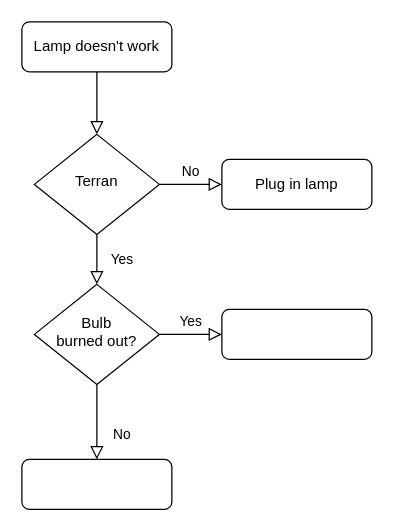
Image size: 394x531. Some labels were removed from this diagram. Here are the shapes that lost their labels. From the top down, the centre of each, then its label:
[296,333]: Replace Bulb
[96,483]: Repair Lamp
